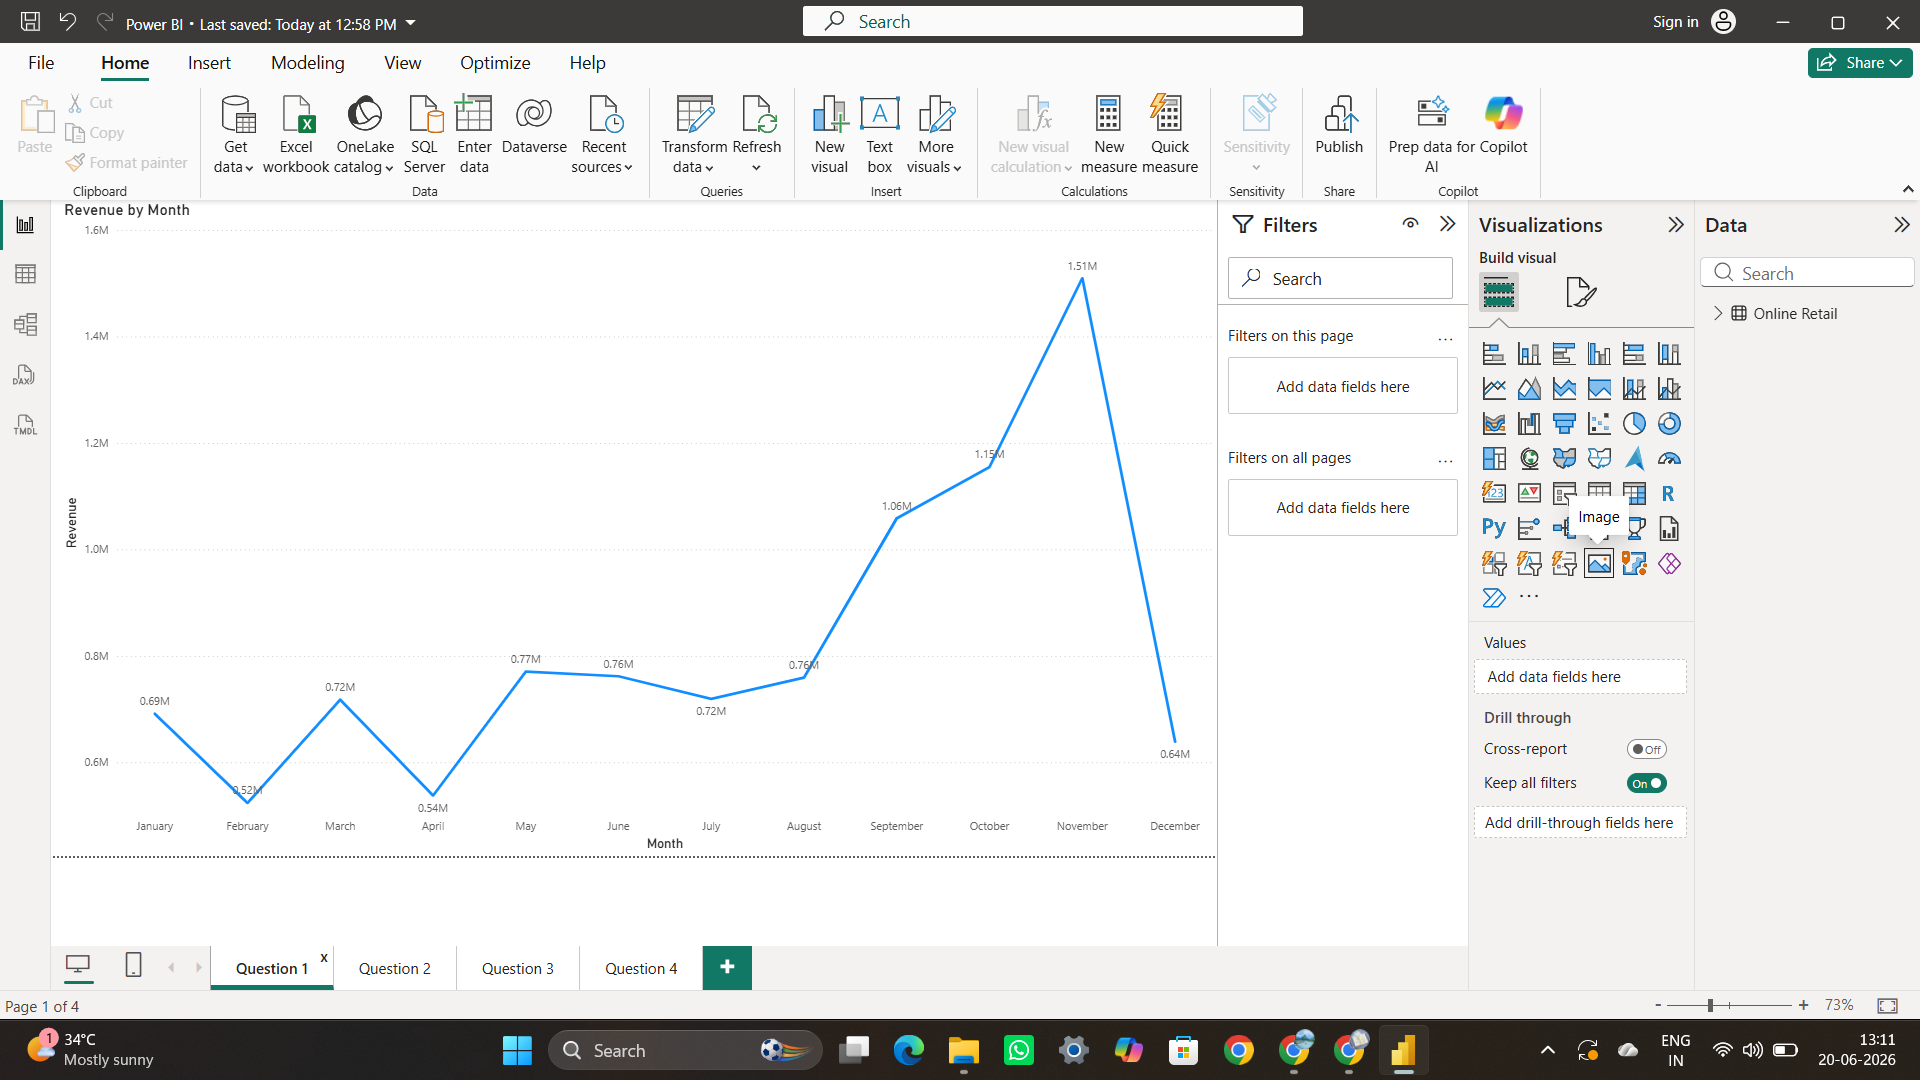

This screenshot's page, from the dashboard's own definition file:
{"tool":"powerbi","page":{"name":"Question 1","canvas":[1280,720],"ordinal":0},"visuals":[{"type":"lineChart","fields":{"Y":["Sum(Online Retail.Revenue)"],"Category":["Online Retail.InvoiceDate.Variation.Date Hierarchy.Month"]},"box":[9.7,0,1270.3,719.8],"z":0}]}

Visuals, with their boxes on the page's 1280x720 design canvas (x1, y1, x2, y2). These are canvas units, not pixel positions in the 1920x1080 screenshot, which may show the page scaled, cropped or inside an application window:
lineChart - Sum(Online Retail.Revenue) x Online Retail.InvoiceDate.Variation.Date Hierarchy.Month: BBox(10, 0, 1280, 720)
